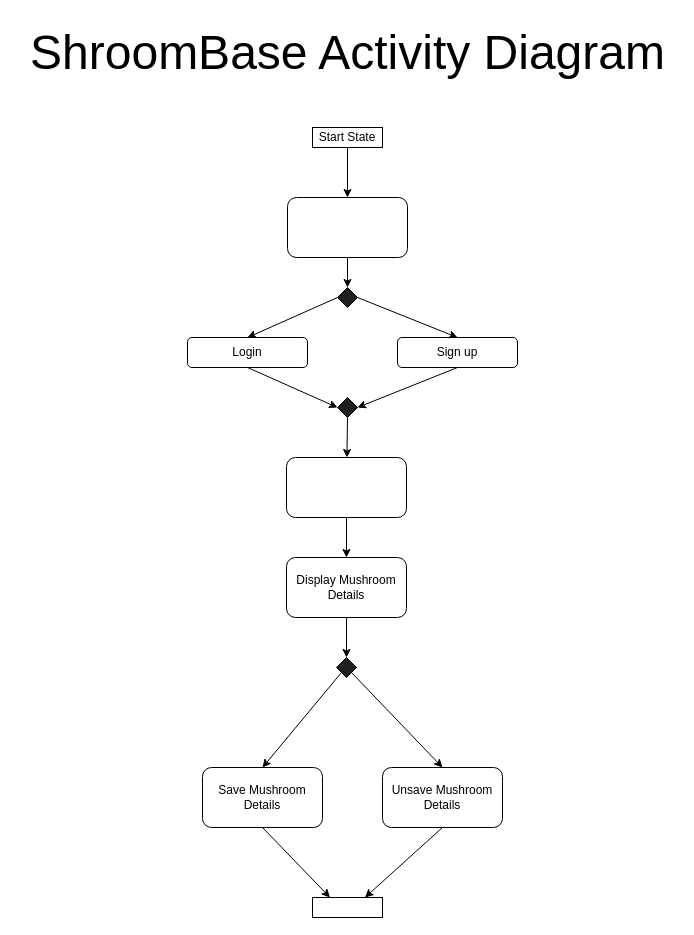
The diagram is 694 pixels wide and 935 high, and some of its shapes have lost their labels. The centre of each missing label's shape, as x and y in pixels:
"Search/Select a Mushroom" goes at point 346,487.
"Target State" goes at point 347,907.
"View Homepage" goes at point 347,227.
